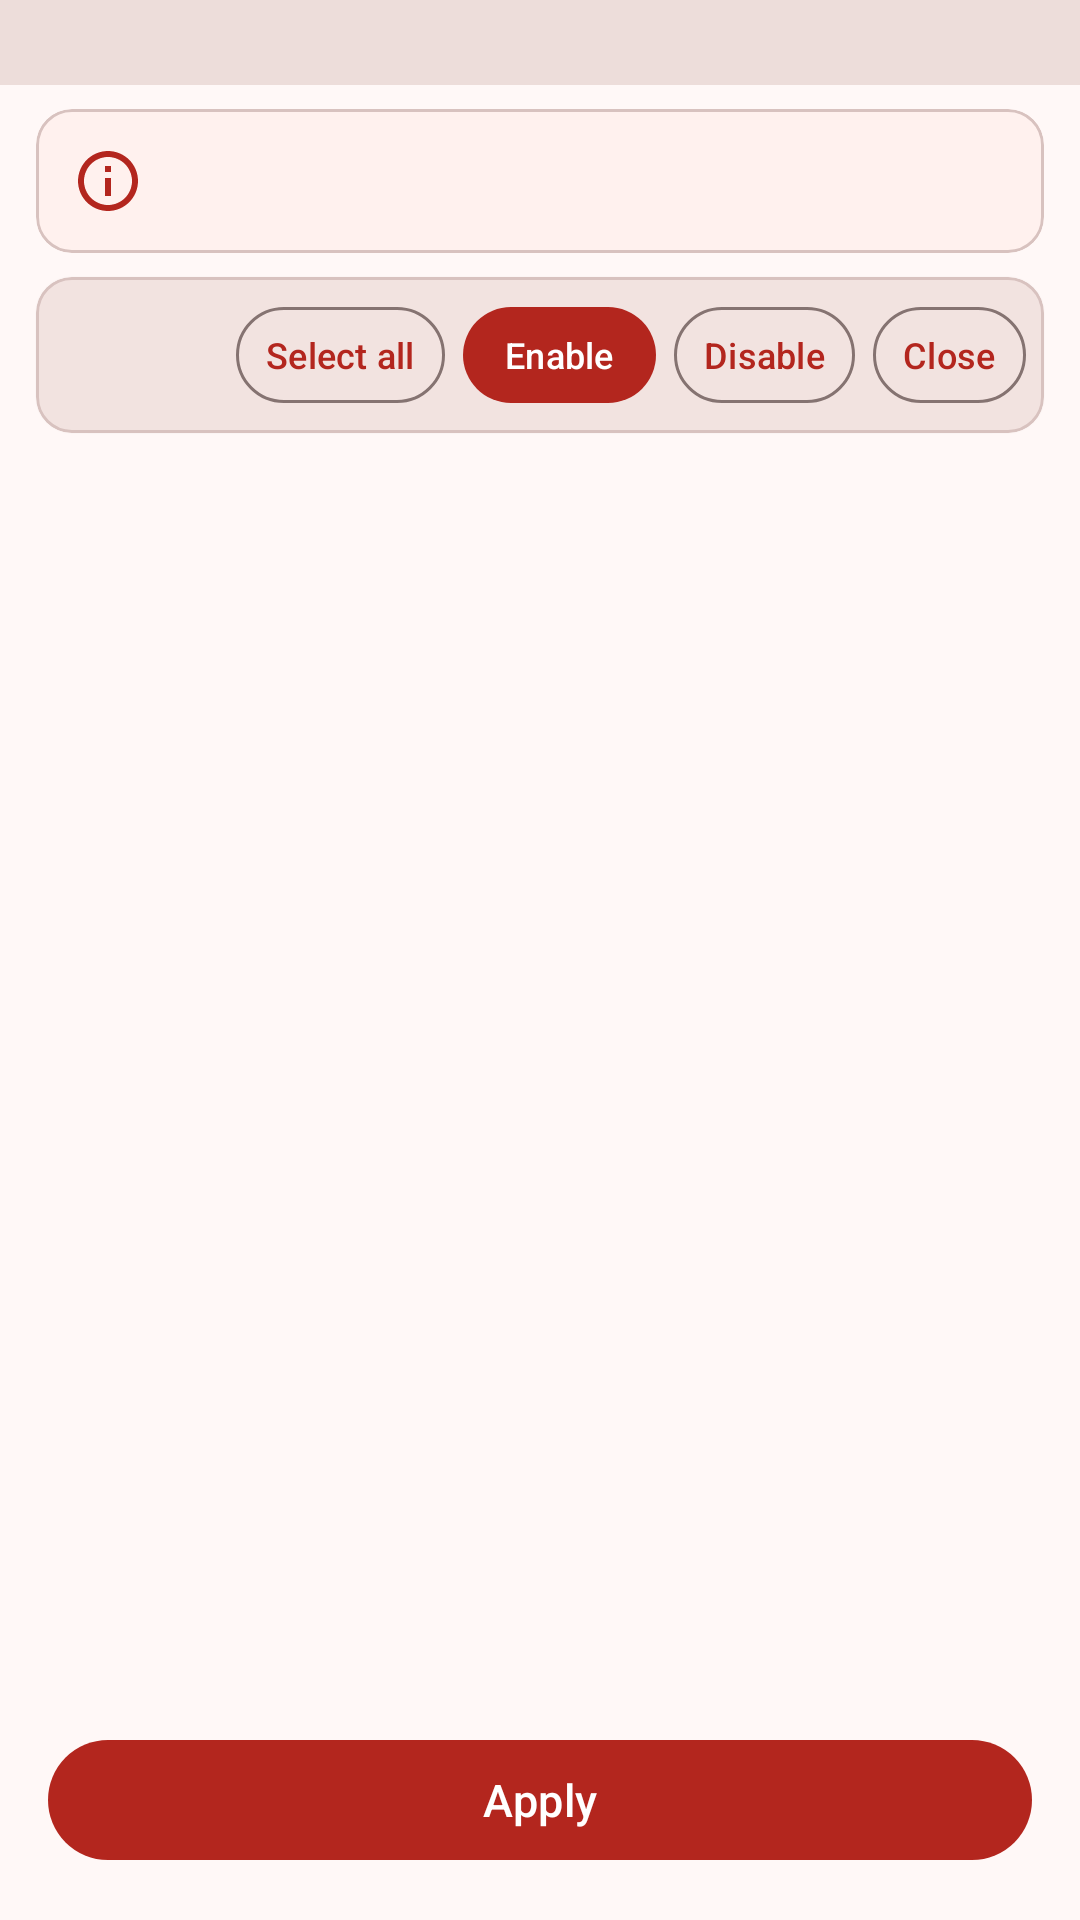

Where icons sit on this 1080 x 1920 app screen, as box=[x1, y1, x2, y2]:
How this mode works: box=[78, 151, 138, 211]
